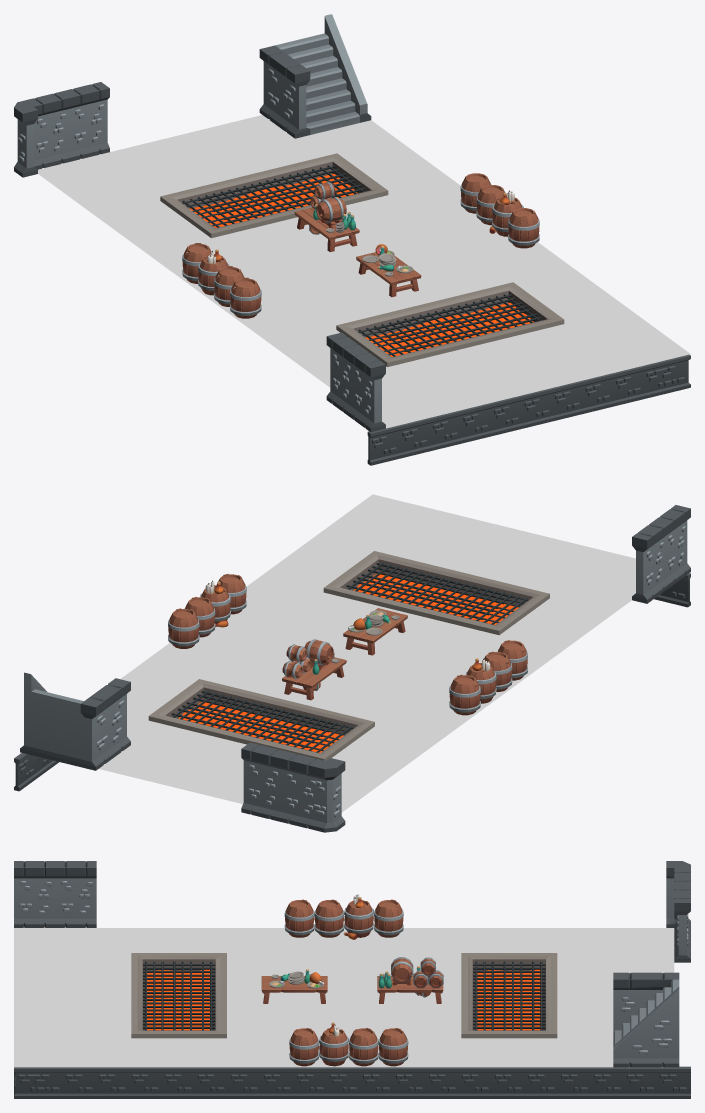
Rendered from lvl2.glb.
3 views of the same model, one above another, from view 1: azimuth 30°, elevation 25°; view 2: azimuth 150°, elevation 25°; view 3: azimuth 270°, elevation 25° (orthographic). The views are drawn at different scales.
Visible parts, largest first — view 1: Plane.006, floor_foundation_front_and_back.004, stairs_wall_right.001, floor_tile_grate.002, wall.010, floor_tile_grate.004, wall.009, floor_tile_grate.001, floor_tile_grate.003, barrel_large_decorated.002, barrel_large_decorated.001, table_long_decorated_C.001 (+4 smaller); view 2: Plane.006, stairs_wall_right.001, wall.010, floor_tile_grate.002, floor_tile_grate.004, floor_tile_grate.003, floor_tile_grate.001, wall.009, barrel_large_decorated.002, barrel_large_decorated.001, table_long_decorated_C.001, wall_corner_small.002 (+5 smaller); view 3: Plane.006, floor_foundation_front_and_back.003, stairs_wall_right.001, wall.009, floor_tile_grate.003, barrel_large_decorated.001, floor_tile_grate.001, barrel_large_decorated.002, floor_tile_grate.004, floor_tile_grate.002, table_long_decorated_C.001, lAVA.001 (+5 smaller).
Boxes of the visible parts, x1=… form: Plane.006: x1=38, y1=115, x2=690, y2=428; floor_foundation_front_and_back.004: x1=367, y1=359, x2=675, y2=465; stairs_wall_right.001: x1=259, y1=14, x2=371, y2=138; floor_tile_grate.002: x1=336, y1=282, x2=564, y2=366; wall.010: x1=25, y1=82, x2=109, y2=169; floor_tile_grate.004: x1=160, y1=153, x2=388, y2=238; wall.009: x1=326, y1=332, x2=385, y2=432; floor_tile_grate.001: x1=358, y1=294, x2=541, y2=356; floor_tile_grate.003: x1=181, y1=165, x2=365, y2=227; barrel_large_decorated.002: x1=460, y1=173, x2=539, y2=248; barrel_large_decorated.001: x1=182, y1=243, x2=261, y2=318; table_long_decorated_C.001: x1=294, y1=181, x2=359, y2=251; Plane.006: x1=99, y1=494, x2=635, y2=812; stairs_wall_right.001: x1=20, y1=672, x2=130, y2=770; wall.010: x1=241, y1=742, x2=325, y2=830; floor_tile_grate.002: x1=323, y1=551, x2=549, y2=635; floor_tile_grate.004: x1=148, y1=679, x2=374, y2=760; floor_tile_grate.003: x1=168, y1=691, x2=354, y2=753; floor_tile_grate.001: x1=343, y1=563, x2=528, y2=625; wall.009: x1=632, y1=505, x2=690, y2=603; barrel_large_decorated.002: x1=168, y1=574, x2=246, y2=648; barrel_large_decorated.001: x1=449, y1=640, x2=527, y2=715; table_long_decorated_C.001: x1=282, y1=639, x2=346, y2=700; wall_corner_small.002: x1=311, y1=758, x2=345, y2=832; Plane.006: x1=14, y1=928, x2=674, y2=1067; floor_foundation_front_and_back.003: x1=30, y1=1066, x2=690, y2=1098; stairs_wall_right.001: x1=613, y1=972, x2=679, y2=1067; wall.009: x1=14, y1=861, x2=96, y2=927; floor_tile_grate.003: x1=473, y1=961, x2=545, y2=1030; barrel_large_decorated.001: x1=284, y1=894, x2=403, y2=939; floor_tile_grate.001: x1=143, y1=961, x2=215, y2=1030; barrel_large_decorated.002: x1=289, y1=1022, x2=408, y2=1066; floor_tile_grate.004: x1=461, y1=953, x2=557, y2=1038; floor_tile_grate.002: x1=131, y1=953, x2=226, y2=1038; table_long_decorated_C.001: x1=377, y1=957, x2=443, y2=1003; lAVA.001: x1=477, y1=969, x2=540, y2=1030.
Bounding box in the file's own units: 21.12 × 7.81 × 41.
11 materials, 10 textured.
